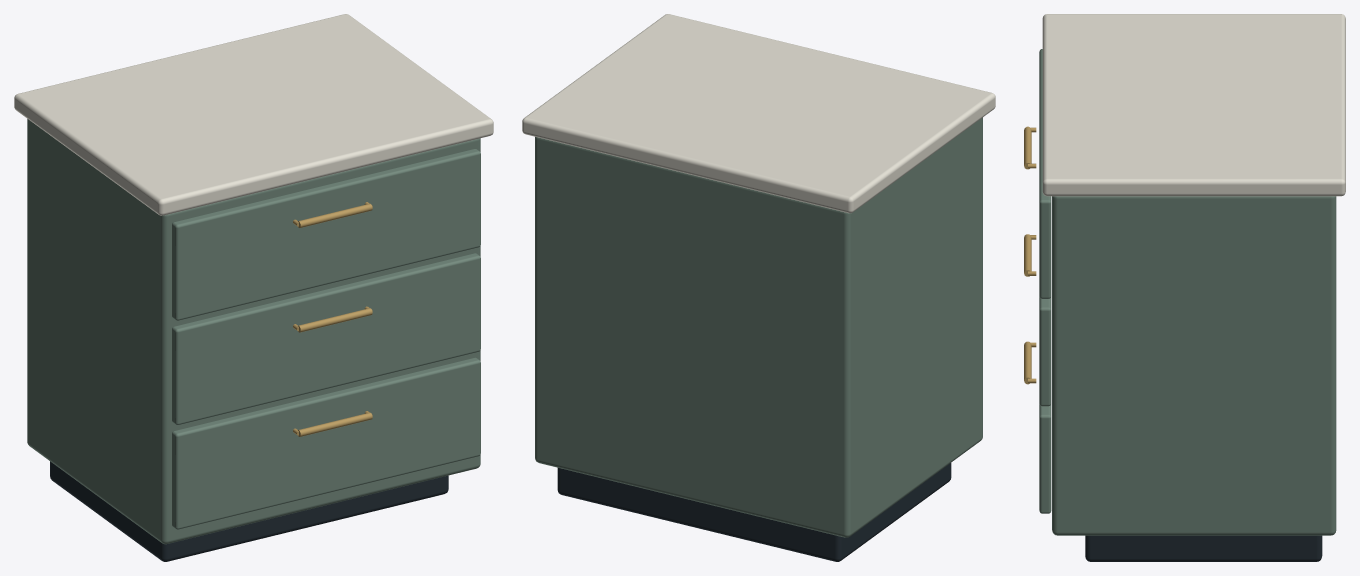
The model's file is officeSageKitchen.glb.
The picture shows the model from 3 angles, left to right: view 1: azimuth 30°, elevation 25°; view 2: azimuth 150°, elevation 25°; view 3: azimuth 270°, elevation 25°; orthographic projection. The views are drawn at different scales.
Bounding box in the file's own units: 0.84 × 0.92 × 0.679.
